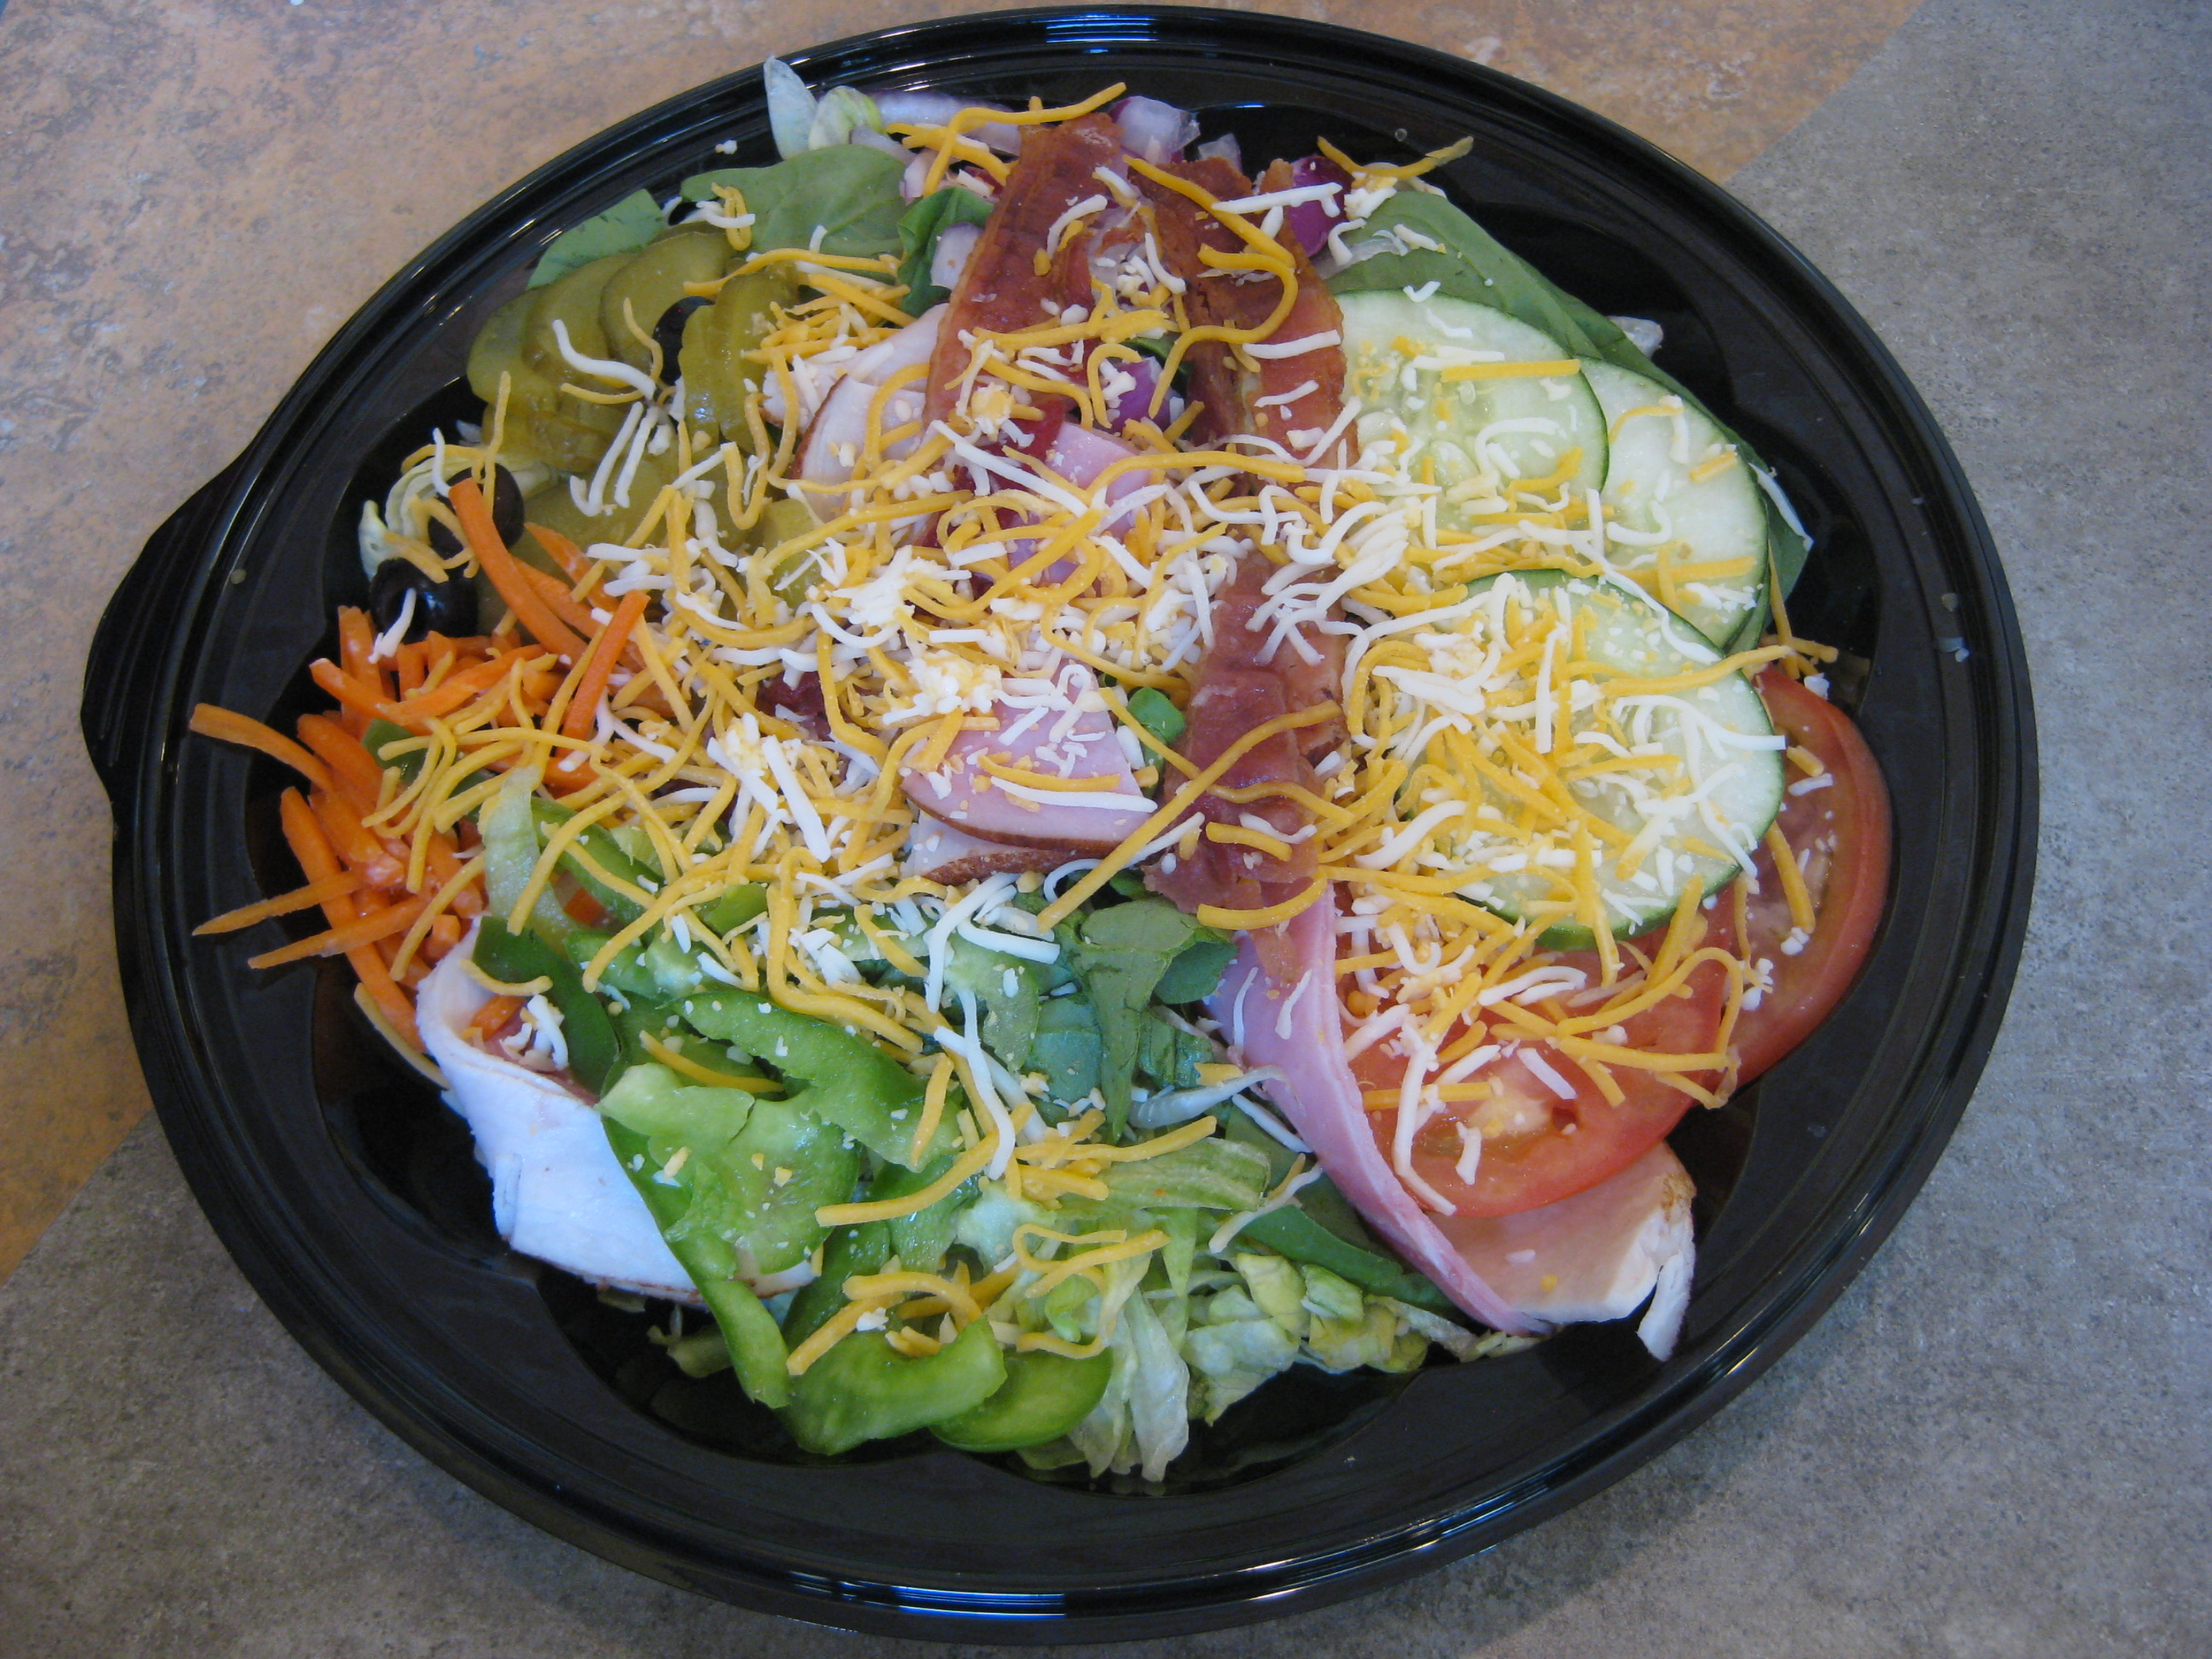salad: (294, 114, 1909, 1419)
